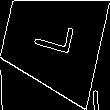L_W: (27, 21, 77, 63)
